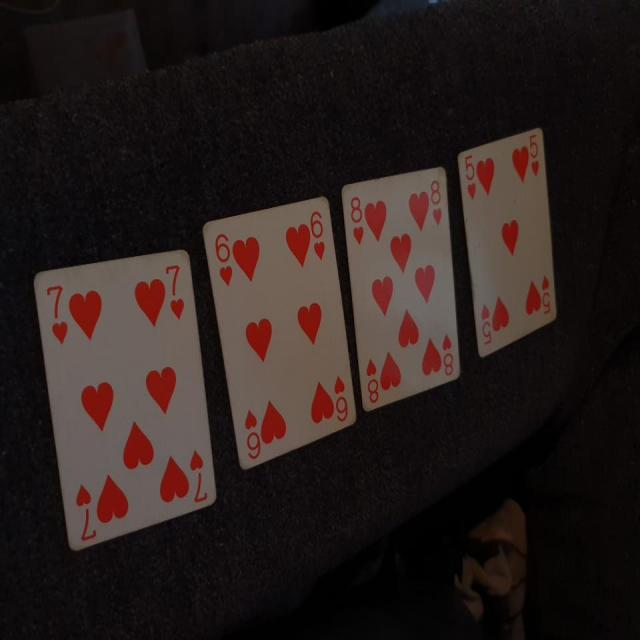5 Hearts: (449, 116, 564, 362)
6 Hearts: (203, 189, 362, 474)
7 Hearts: (30, 244, 219, 558)
8 Hearts: (339, 162, 467, 418)
